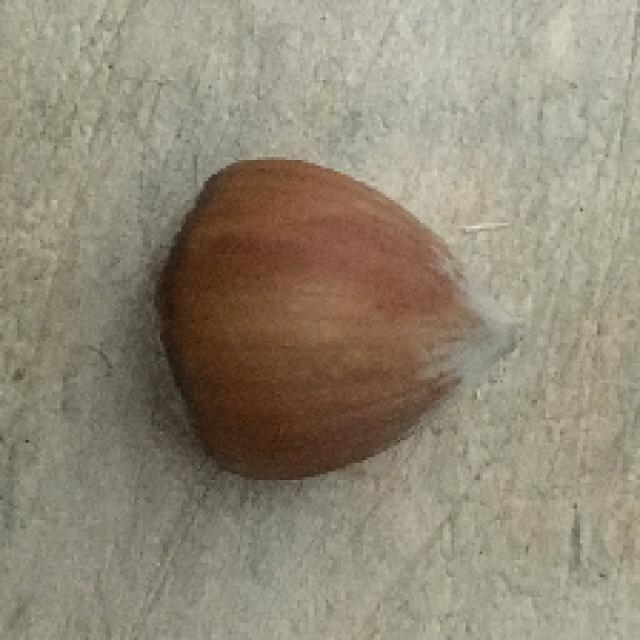qualityHazelnut: (143, 148, 521, 496)
